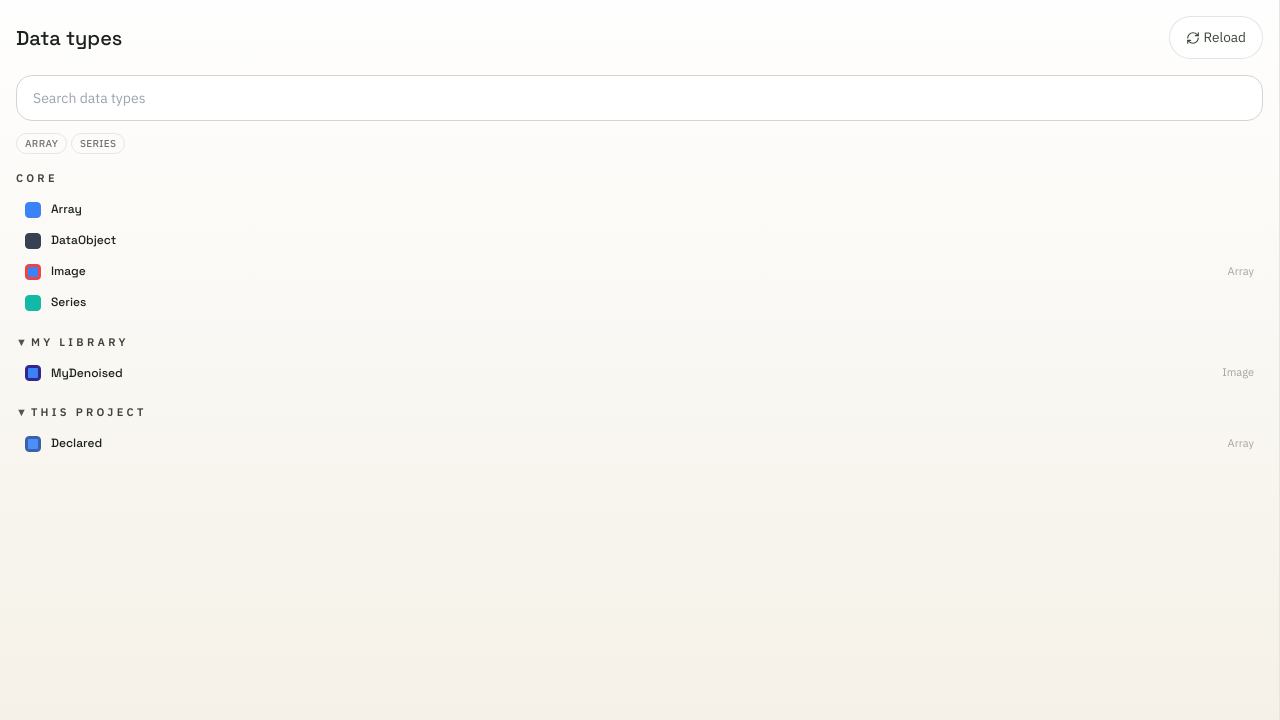
Test case: Data types tab — hover popover (FR-042, FR-043, FR-056) › states the FR-056 no-formats case outright
Hover over the element with test id "palette-type-row" showing "Array": [640, 210] box [16, 195, 1263, 225]
Wait 151 ms
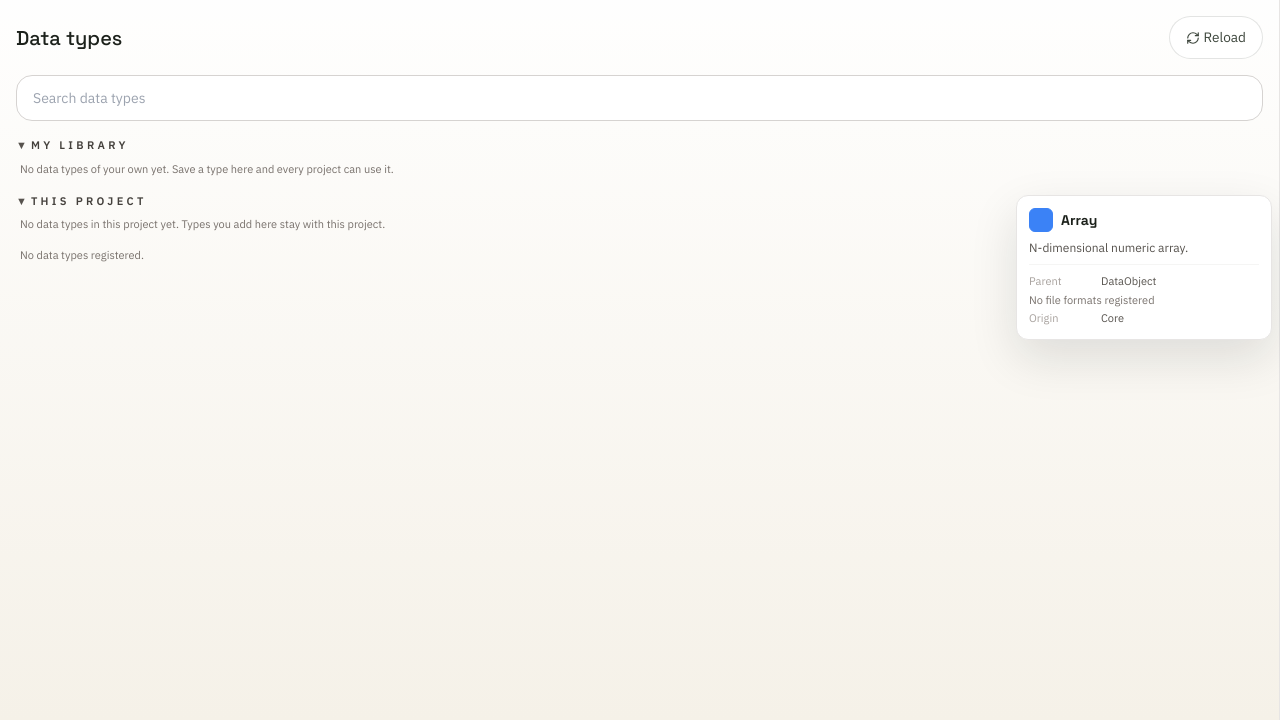
Result: the text with test id "type-detail-no-formats" reads "No file formats registered" at [1029, 293, 1154, 307]
